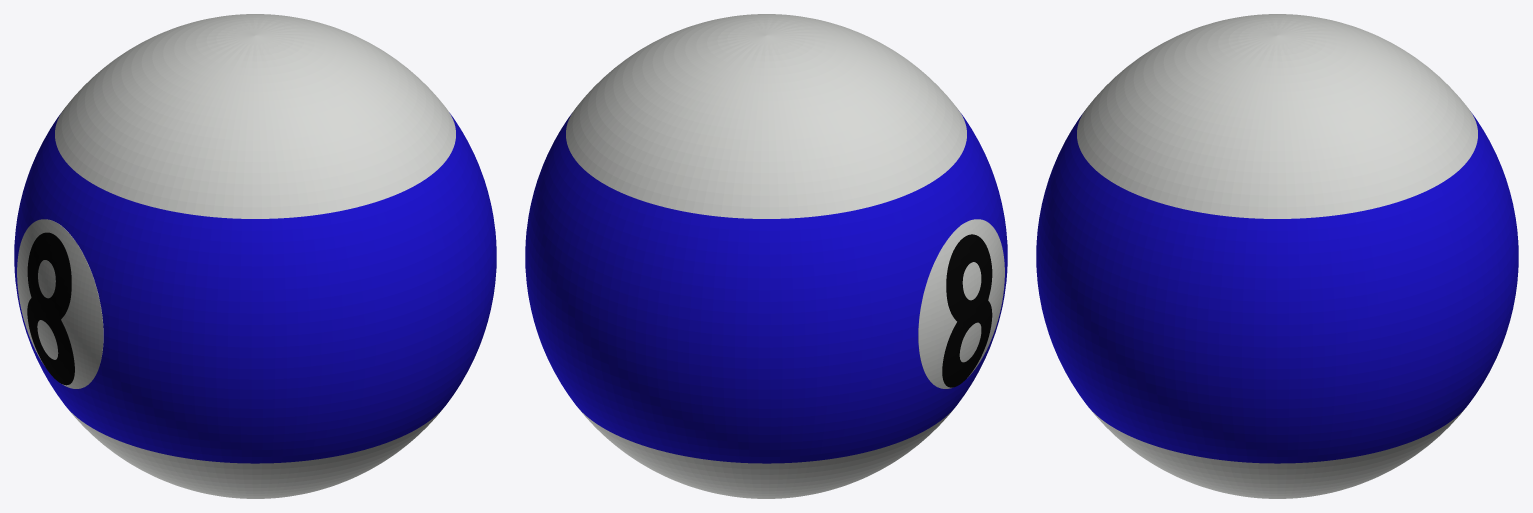
Rendered from Ball#8.fbx.
3 renders of one model, left to right at view 1: azimuth 30°, elevation 25°; view 2: azimuth 150°, elevation 25°; view 3: azimuth 270°, elevation 25°, orthographic.
Parts seen in each view (by area): view 1: Sphere, Sphere.001, Text; view 2: Sphere, Sphere.001, Text; view 3: Sphere.
Part boxes in pixels (x1=…): Sphere: x1=14, y1=14, x2=496, y2=498; Sphere.001: x1=17, y1=219, x2=103, y2=388; Text: x1=27, y1=232, x2=74, y2=385; Sphere: x1=525, y1=14, x2=1007, y2=498; Sphere.001: x1=918, y1=219, x2=1004, y2=388; Text: x1=942, y1=234, x2=992, y2=387; Sphere: x1=1036, y1=14, x2=1518, y2=498.
Size of the model in its own units: 198 by 200 by 198.
